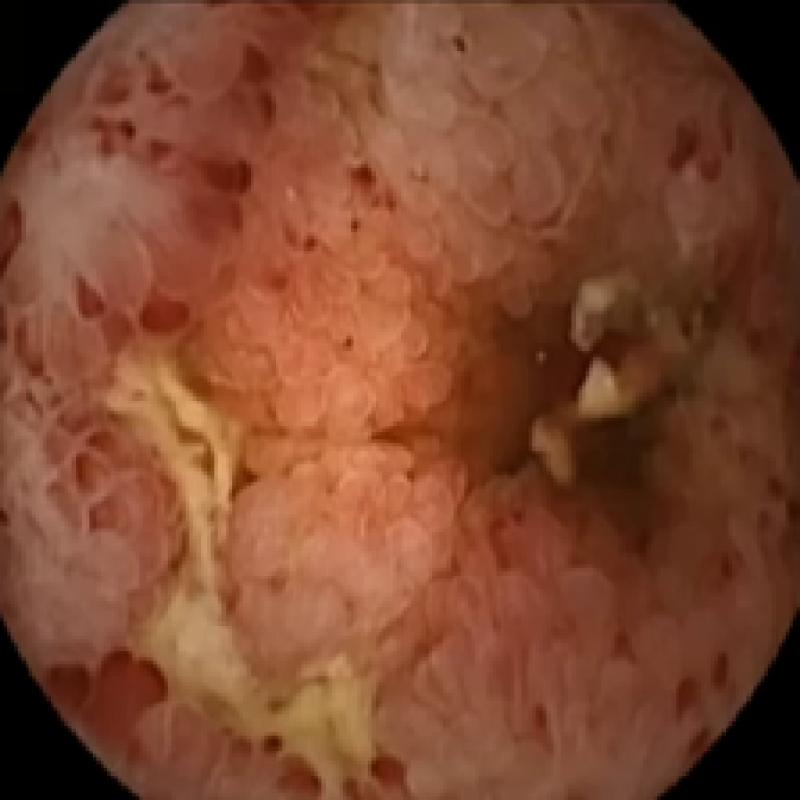bleeding: (0, 0, 318, 357), (488, 276, 672, 526), (52, 648, 165, 772), (667, 102, 740, 182), (367, 748, 405, 800)
